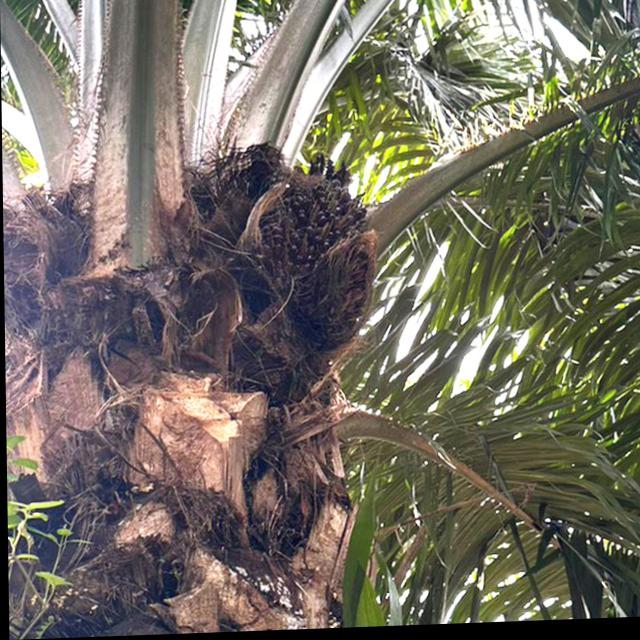unripe: (243, 168, 385, 364)
